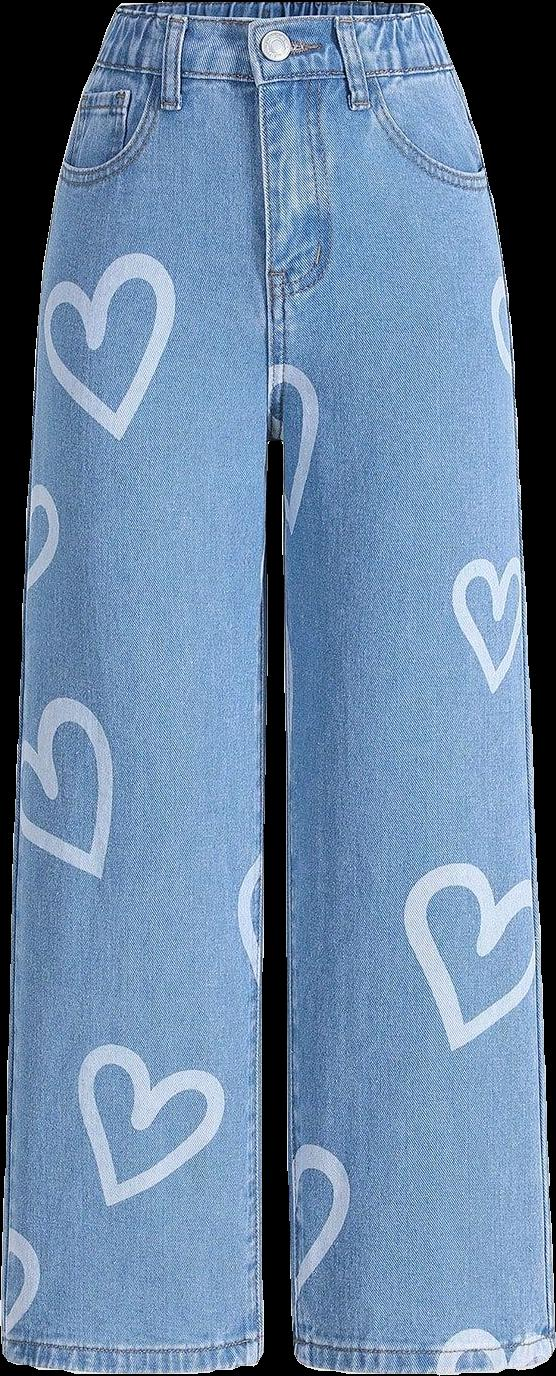Hemline: (290, 1345, 555, 1375), (3, 1350, 271, 1375)
Pantleg: (270, 1, 555, 1374), (0, 3, 277, 1373)
Waistline: (95, 60, 457, 93), (118, 0, 427, 22)
